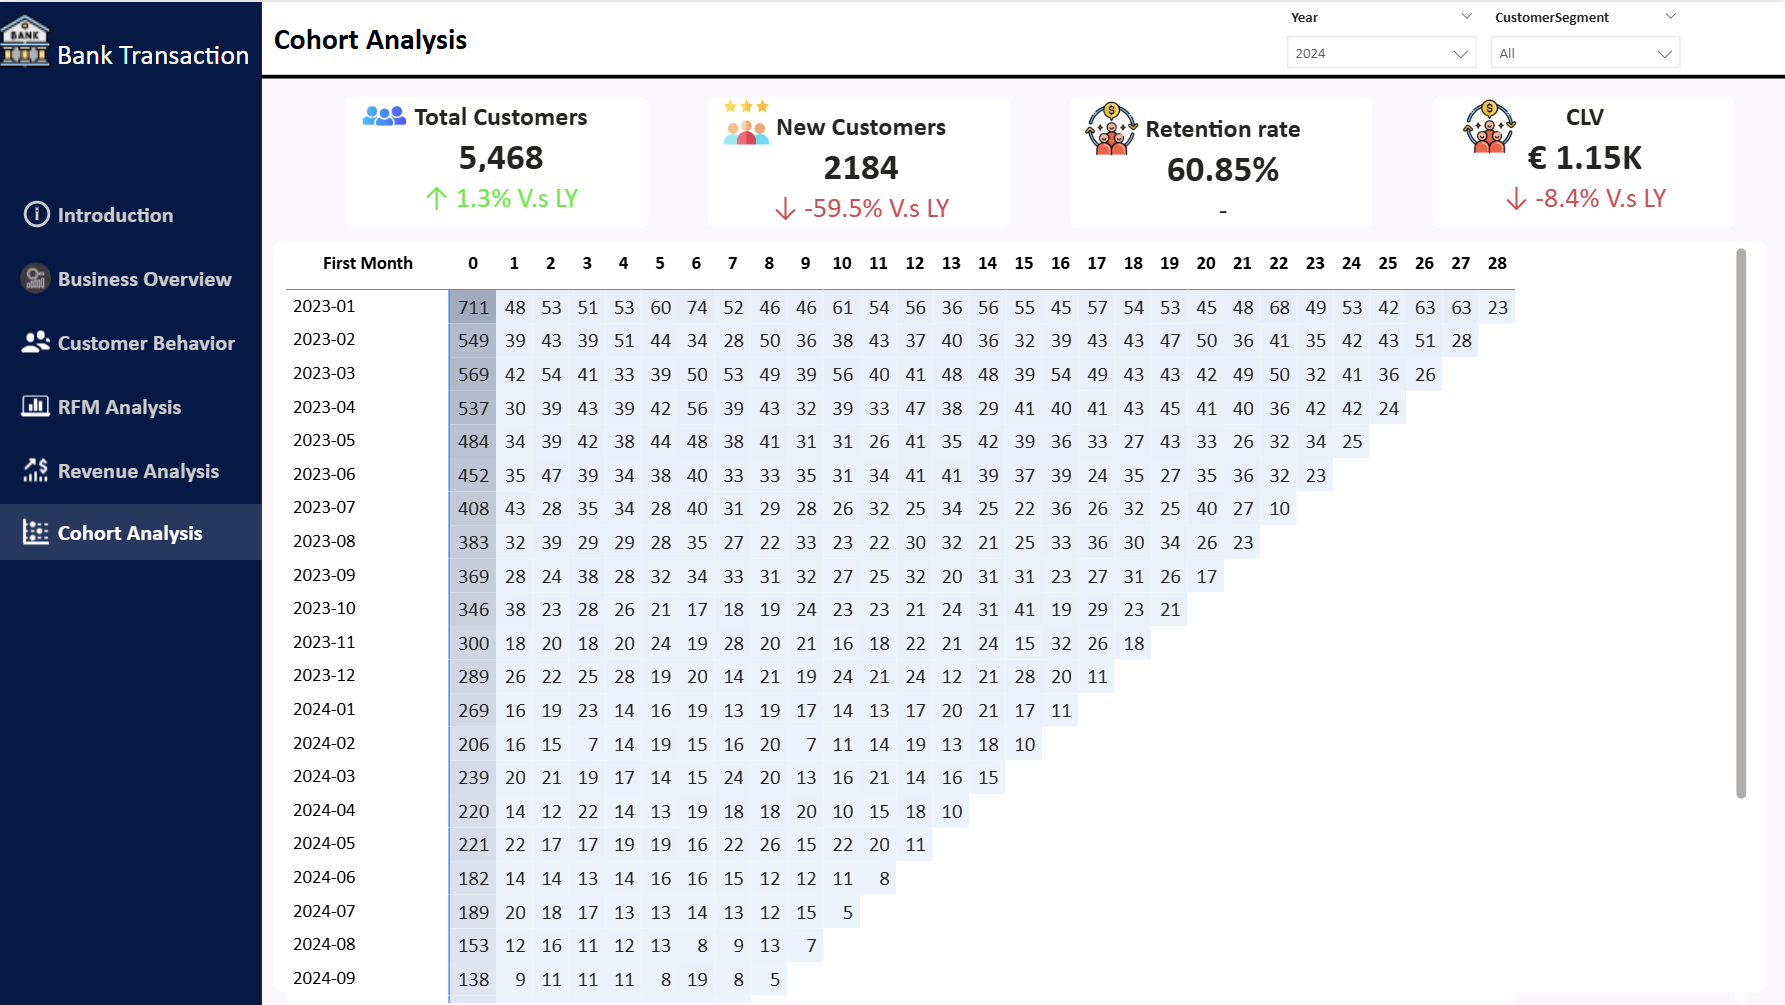

This screenshot's page, from the dashboard's own definition file:
{"tool":"powerbi","page":{"name":"Cohort Analysis","canvas":[1280,720],"ordinal":5},"visuals":[{"type":"slicer","title":"year","fields":{"Values":["Dim_date.Year"]},"box":[913.3,4,155.5,46.4],"z":0,"group":"g5"},{"type":"image","box":[1043,63.2,49,52.1],"z":0,"group":"g18"},{"type":"card","title":"Total Customers","fields":{"Values":["Measure.Total Customers"]},"box":[252.2,69.4,217.3,56.4],"z":0,"group":"g7"},{"type":"card","title":"CLV","fields":{"Values":["Measure.CLV"]},"box":[1027.2,70.9,217.3,56.4],"z":0,"group":"g10"},{"type":"card","title":"New Customers","fields":{"Values":["Measure.New Customers"]},"box":[510.4,77.3,217.3,56.4],"z":0,"group":"g11"},{"type":"card","title":"Retention rate","fields":{"Values":["Measure.Retention Rate 1Y"]},"box":[768.8,78.9,217.3,56.4],"z":0,"group":"g12"},{"type":"pivotTable","fields":{"Columns":["Fact_transaction.MonthOffset"],"Values":["Measure.Total Customers"],"Rows":["Fact_transaction.FirstTransactionMonth"]},"box":[202.3,170.7,1054,549.9],"z":0},{"type":"group","id":"g1","title":"Cohort Button","box":[0,359.8,190.7,40],"z":0,"group":"g3"},{"type":"actionButton","title":"Cohort active Button","box":[0,359.8,190.7,40],"z":0,"group":"g1"},{"type":"slicer","title":"city","fields":{"Values":["Fact_transaction.CustomerSegment"]},"box":[1058.8,4,155.5,46.4],"z":1000,"group":"g5"},{"type":"group","id":"g2","title":"Group 2","box":[1027.2,70.9,217.3,85.5],"z":1000,"group":"g18"},{"type":"card","fields":{"Values":["Measure.YOY Customers growth"]},"box":[252.2,125.8,217.3,29.1],"z":1000,"group":"g7"},{"type":"card","fields":{"Values":["Measure.YOY CLV Growth"]},"box":[1027.2,127.3,217.3,29.1],"z":1000,"group":"g10"},{"type":"group","id":"g3","title":"Navigation","box":[0,132,192,267.8],"z":1000},{"type":"actionButton","title":"Introduction Button","box":[0,132,192,40],"z":1000,"group":"g17"},{"type":"card","fields":{"Values":["Measure.YOY New Customer Growth"]},"box":[510.4,133.7,217.3,29.1],"z":1000,"group":"g11"},{"type":"card","fields":{"Values":["Measure.YOY Retention Rate Growth"]},"box":[768.8,135.3,217.3,29.1],"z":1000,"group":"g12"},{"type":"actionButton","title":"Business Overview Button","box":[0,177.4,191.8,40],"z":1000,"group":"g13"},{"type":"actionButton","title":"Customer Behavior Button","box":[0,223.4,190.7,40],"z":1000,"group":"g8"},{"type":"actionButton","title":"RFM Button","box":[0,268.9,190.7,40],"z":1000,"group":"g6"},{"type":"group","id":"g4","title":"Revenue Button","box":[0,314.3,190.7,40],"z":1000,"group":"g3"},{"type":"actionButton","title":"Revenue Button","box":[0,314.3,190.7,40],"z":1000,"group":"g4"},{"type":"group","id":"g5","title":"Slicer","box":[913.3,4,300.9,46.4],"z":2000},{"type":"image","box":[251.3,58.5,53.6,45.5],"z":2000,"group":"g7"},{"type":"group","id":"g6","title":"RFM Button","box":[0,268.9,190.7,40],"z":2000,"group":"g3"},{"type":"group","id":"g7","title":"Card Customers","box":[251.3,58.5,218.1,96.4],"z":3000},{"type":"group","id":"g8","title":"Customers Behavior Button","box":[0,223.4,190.7,40],"z":3000,"group":"g3"},{"type":"group","id":"g9","title":"Group 1","box":[510.4,64.8,217.3,97.9],"z":4000},{"type":"group","id":"g10","title":"Card Customers","box":[1027.2,70.9,217.3,85.5],"z":4000,"group":"g15"},{"type":"group","id":"g11","title":"Card Customers","box":[510.4,77.3,217.3,85.5],"z":4000,"group":"g9"},{"type":"group","id":"g12","title":"Card Customers","box":[768.8,78.9,217.3,85.5],"z":4000,"group":"g16"},{"type":"group","id":"g13","title":"Business Overview Button","box":[0,177.4,191.8,40.5],"z":4000,"group":"g3"},{"type":"image","box":[511.1,64.8,53.7,42.7],"z":5000,"group":"g9"},{"type":"group","id":"g14","title":"Group 2","box":[768.8,64.8,217.3,99.5],"z":5000},{"type":"group","id":"g15","title":"Group 1","box":[1027.2,70.9,217.3,85.5],"z":5000,"group":"g2"},{"type":"group","id":"g16","title":"Group 1","box":[768.8,78.9,217.3,85.5],"z":5000,"group":"g14"},{"type":"group","id":"g17","title":"Introduction Button","box":[0,132,192,40],"z":5000,"group":"g3"},{"type":"group","id":"g18","title":"Group 3","box":[1027.2,63.2,217.3,93.2],"z":6000},{"type":"image","box":[773.5,64.8,49,52.1],"z":6000,"group":"g14"}]}

Visuals, with their boxes on the page's 1280x720 design canvas (x1, y1, x2, y2). These are canvas units, not pixel positions in the 1785x1005 screenshot, which may show the page scaled, cropped or inside an application window:
"year" slicer: 913,4,1069,50
image: 1043,63,1092,115
"Total Customers" card: 252,69,470,126
"CLV" card: 1027,71,1244,127
"New Customers" card: 510,77,728,134
"Retention rate" card: 769,79,986,135
pivotTable - Fact_transaction.MonthOffset x Measure.Total Customers: 202,171,1256,721
"Cohort Button" group: 0,360,191,400
"Cohort active Button" actionButton: 0,360,191,400
"city" slicer: 1059,4,1214,50
"Group 2" group: 1027,71,1244,156
card - Measure.YOY Customers growth: 252,126,470,155
card - Measure.YOY CLV Growth: 1027,127,1244,156
"Navigation" group: 0,132,192,400
"Introduction Button" actionButton: 0,132,192,172
card - Measure.YOY New Customer Growth: 510,134,728,163
card - Measure.YOY Retention Rate Growth: 769,135,986,164
"Business Overview Button" actionButton: 0,177,192,217
"Customer Behavior Button" actionButton: 0,223,191,263
"RFM Button" actionButton: 0,269,191,309
"Revenue Button" group: 0,314,191,354
"Revenue Button" actionButton: 0,314,191,354
"Slicer" group: 913,4,1214,50
image: 251,58,305,104
"RFM Button" group: 0,269,191,309
"Card Customers" group: 251,58,469,155
"Customers Behavior Button" group: 0,223,191,263
"Group 1" group: 510,65,728,163
"Card Customers" group: 1027,71,1244,156
"Card Customers" group: 510,77,728,163
"Card Customers" group: 769,79,986,164
"Business Overview Button" group: 0,177,192,218
image: 511,65,565,108
"Group 2" group: 769,65,986,164
"Group 1" group: 1027,71,1244,156
"Group 1" group: 769,79,986,164
"Introduction Button" group: 0,132,192,172
"Group 3" group: 1027,63,1244,156
image: 774,65,822,117
